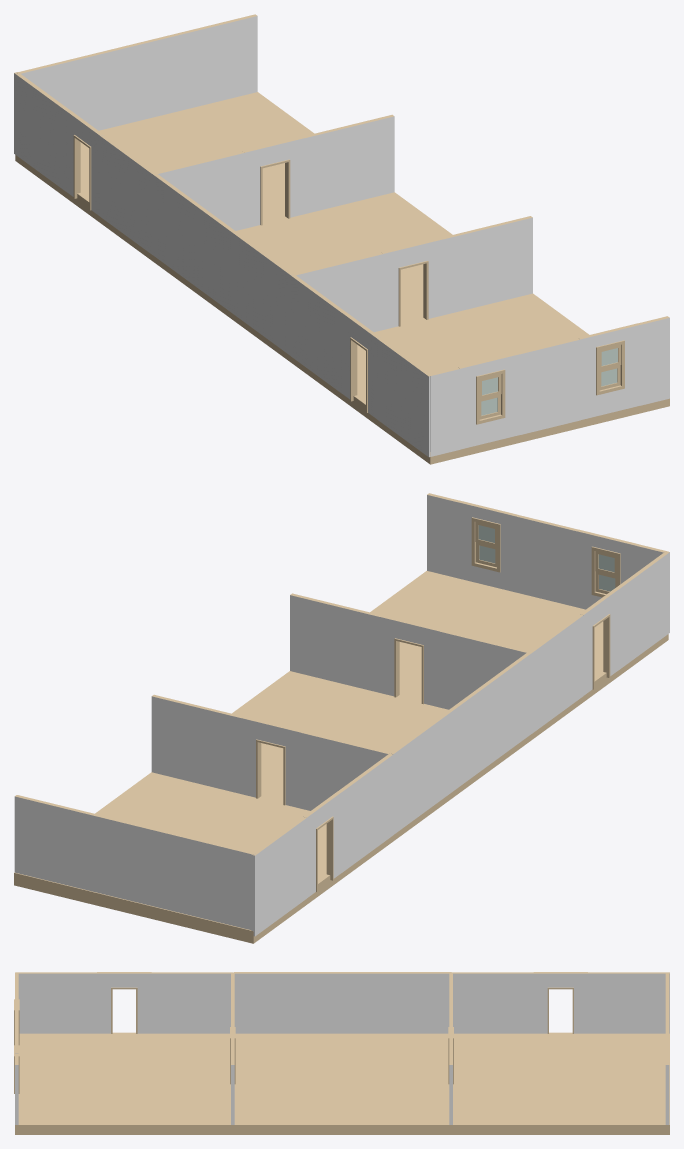
File: Stage1.gltf
3 renders of one model, top to bottom at view 1: azimuth 30°, elevation 25°; view 2: azimuth 150°, elevation 25°; view 3: azimuth 270°, elevation 25°, orthographic. The views are drawn at different scales.
Visible parts, largest first — view 1: 窓壁2.001, 壁, ドア壁, ドア壁2, サイド部屋1, 壁2, サイド部屋2, ドア壁2.001, センター部屋, ドア壁2.002; view 2: 壁, 窓壁2.001, ドア壁, ドア壁2, サイド部屋2, 壁2, サイド部屋1, ドア壁2.002, センター部屋, ドア壁2.001; view 3: センター部屋, サイド部屋2, サイド部屋1, 壁2, ドア壁2.002, ドア壁2.001, 窓壁2.001, 壁, ドア壁, ドア壁2.
Part boxes in pixels (box(x1,y1,x2,y2)): 窓壁2.001: box(428, 316, 669, 456); 壁: box(16, 14, 257, 130); ドア壁: box(155, 114, 394, 230); ドア壁2: box(292, 216, 532, 332); サイド部屋1: box(292, 293, 669, 464); 壁2: box(152, 173, 293, 355); サイド部屋2: box(15, 92, 314, 261); ドア壁2.001: box(290, 275, 430, 457); センター部屋: box(153, 192, 452, 362); ドア壁2.002: box(14, 72, 155, 254); 壁: box(14, 795, 255, 929); 窓壁2.001: box(427, 493, 667, 609); ドア壁: box(151, 694, 391, 810); ドア壁2: box(290, 593, 531, 709); サイド部屋2: box(14, 772, 391, 943); 壁2: box(389, 652, 531, 834); サイド部屋1: box(370, 571, 668, 740); ドア壁2.002: box(251, 754, 393, 936); センター部屋: box(232, 671, 530, 842); ドア壁2.001: box(529, 551, 669, 733); センター部屋: box(233, 1033, 451, 1134); サイド部屋2: box(451, 1032, 669, 1134); サイド部屋1: box(15, 1032, 233, 1134); 壁2: box(233, 972, 451, 1033); ドア壁2.002: box(451, 972, 669, 1033); ドア壁2.001: box(15, 972, 233, 1033); 窓壁2.001: box(14, 972, 19, 1124); 壁: box(665, 972, 669, 1124); ドア壁: box(448, 973, 453, 1124); ドア壁2: box(230, 973, 235, 1124).
Bounding box in the file's own units: 2.53 × 0.8837 × 7.51.
